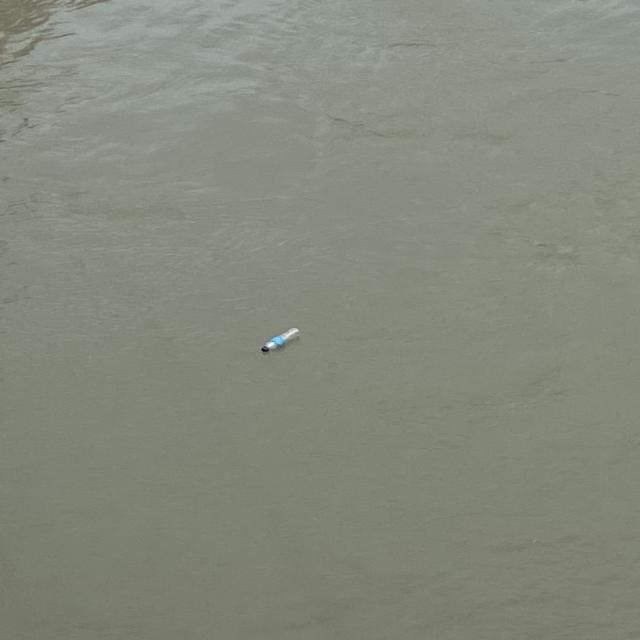Plastic: (259, 325, 308, 360)
